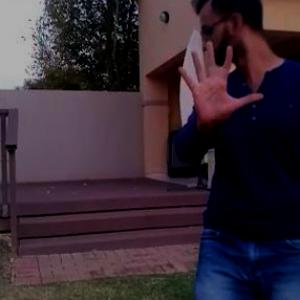follow_hand: (173, 35, 264, 129)
